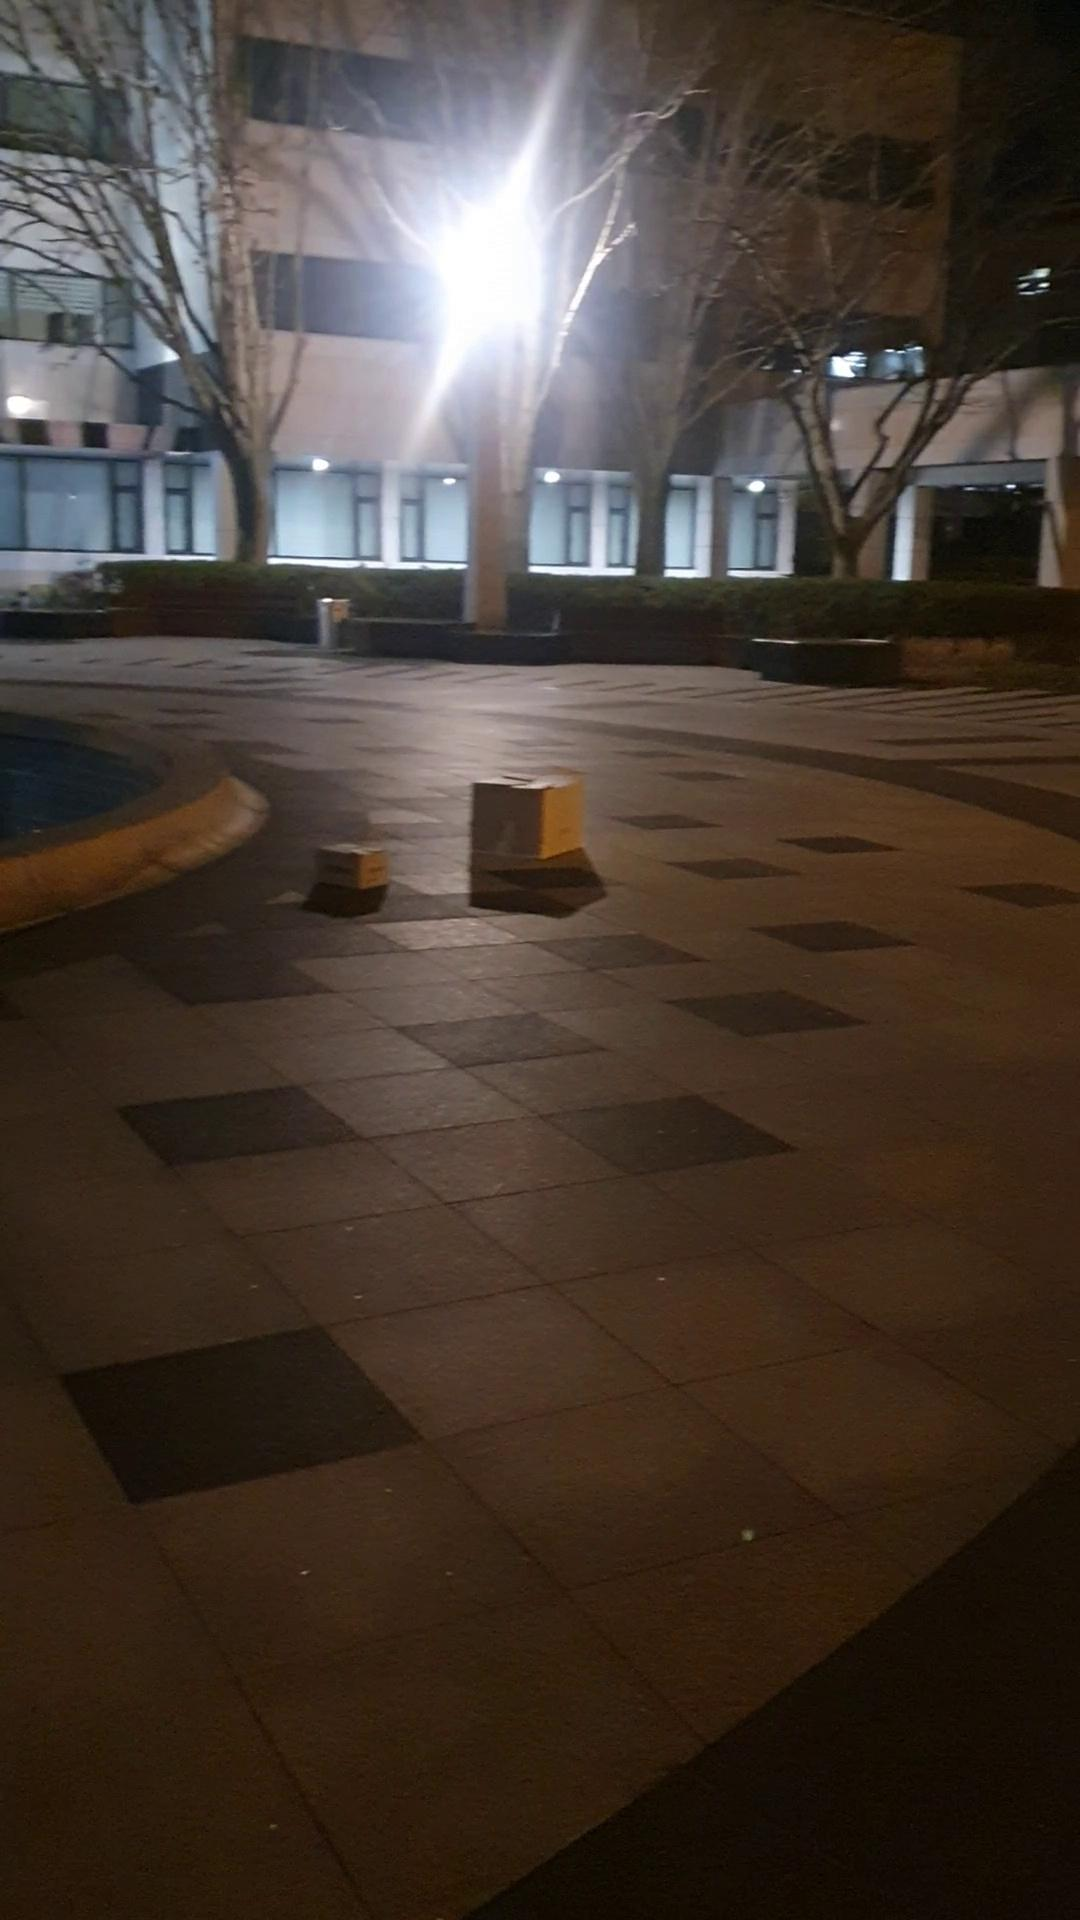Box: (465, 767, 589, 876), (313, 820, 397, 895)
